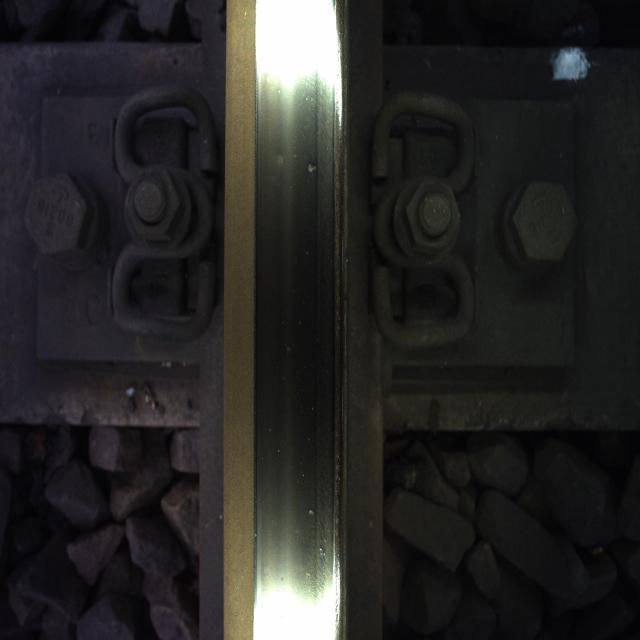break: (265, 64, 335, 621)
